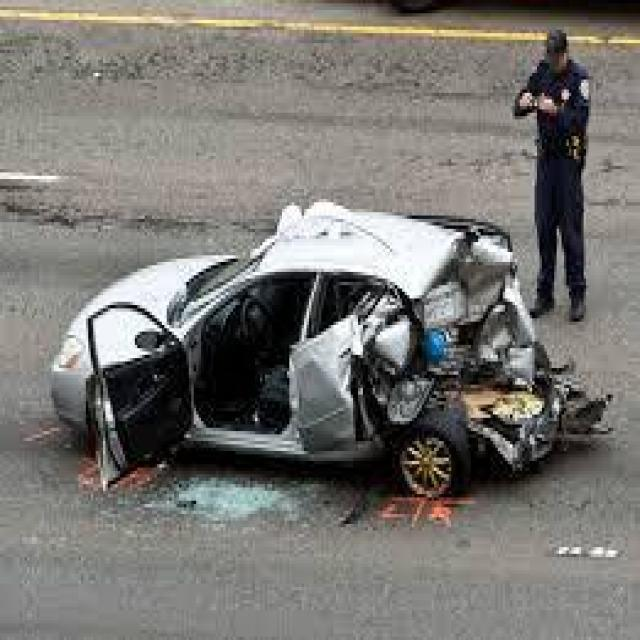damaged: (274, 199, 620, 468), (78, 305, 198, 494)
